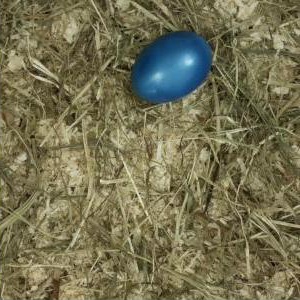egg: (132, 32, 213, 102)
